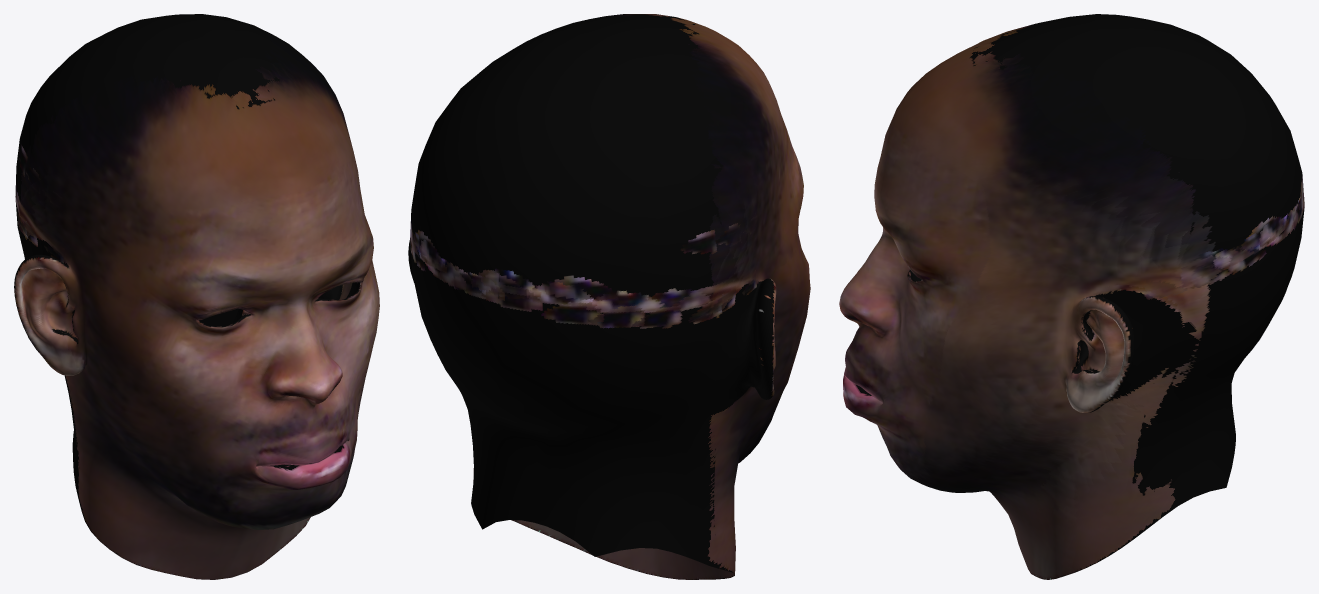
The model's file is Frown.obj.
3 renders of one model, left to right at view 1: azimuth 30°, elevation 25°; view 2: azimuth 150°, elevation 25°; view 3: azimuth 270°, elevation 25°, orthographic. The views are drawn at different scales.
Size of the model in its own units: 191 by 281 by 223.
